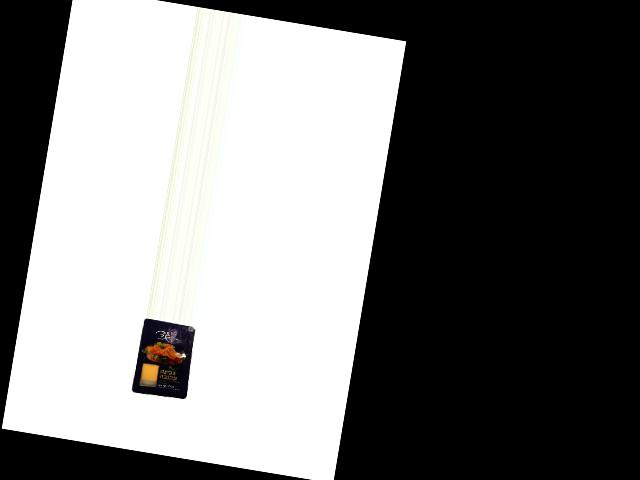cheese: (131, 317, 199, 401)
